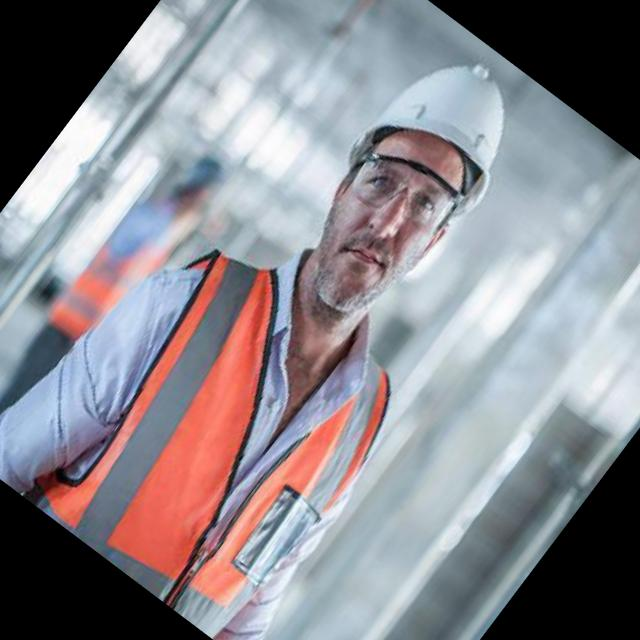hard_hat: (338, 29, 550, 247)
safety_vest: (17, 224, 428, 640), (38, 193, 188, 361)
vehicle: (0, 0, 638, 640), (0, 120, 253, 492)
